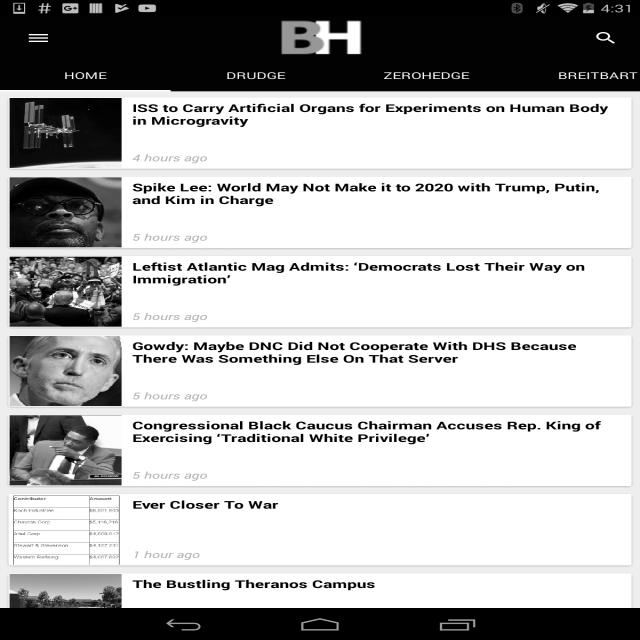ImageButton: (9, 17, 68, 59)
ImageView: (10, 98, 121, 168), (10, 178, 121, 248), (10, 256, 121, 326), (10, 336, 121, 406), (10, 416, 121, 486), (10, 494, 121, 564), (10, 574, 121, 640), (245, 17, 395, 59), (580, 22, 632, 54)
TextView: (126, 100, 626, 128), (126, 338, 626, 366), (126, 180, 626, 207), (126, 418, 626, 445), (126, 260, 626, 286), (126, 229, 626, 245), (126, 467, 626, 483), (126, 150, 626, 165), (126, 309, 626, 324), (126, 388, 626, 403), (126, 497, 626, 512), (126, 547, 626, 562), (126, 577, 626, 591), (384, 69, 469, 82), (558, 69, 638, 82), (226, 69, 285, 82), (64, 69, 107, 82)
